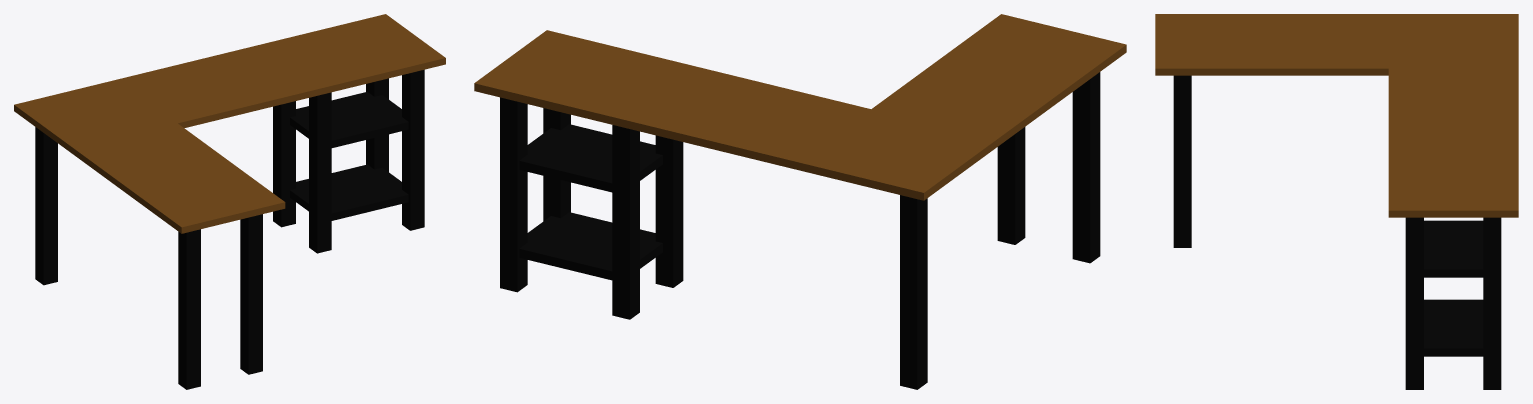
Rendered from Desk.glb.
3 views of the same model, side by side, from view 1: azimuth 30°, elevation 25°; view 2: azimuth 150°, elevation 25°; view 3: azimuth 270°, elevation 25° (orthographic). The views are drawn at different scales.
Parts seen in each view (by area): view 1: Desk Top, Desk Leg.006, Desk Leg.001, Desk Leg.002, Desk Shelf, Desk Shelf.001, Desk Leg.004, Desk Leg, Desk Leg.005, Desk Leg.003; view 2: Desk Top, Desk Leg, Desk Leg.005, Desk Leg.001, Desk Shelf, Desk Shelf.001, Desk Leg.003, Desk Leg.006, Desk Leg.002, Desk Leg.004; view 3: Desk Top, Desk Shelf, Desk Shelf.001, Desk Leg.002, Desk Leg.003, Desk Leg.004.
Part boxes in pixels (x1,y1,x2,y2): Desk Top: [14, 14, 445, 233]; Desk Leg.006: [309, 92, 331, 253]; Desk Leg.001: [178, 229, 200, 389]; Desk Leg.002: [240, 214, 262, 374]; Desk Shelf: [290, 164, 408, 220]; Desk Shelf.001: [290, 91, 408, 147]; Desk Leg.004: [402, 69, 424, 230]; Desk Leg: [35, 127, 57, 285]; Desk Leg.005: [273, 101, 295, 227]; Desk Leg.003: [366, 78, 388, 171]; Desk Top: [474, 14, 1126, 200]; Desk Leg: [900, 195, 927, 389]; Desk Leg.005: [612, 125, 639, 319]; Desk Leg.001: [1072, 72, 1100, 263]; Desk Shelf: [519, 212, 662, 280]; Desk Shelf.001: [519, 124, 662, 192]; Desk Leg.003: [500, 97, 527, 292]; Desk Leg.006: [655, 135, 683, 287]; Desk Leg.002: [997, 127, 1025, 244]; Desk Leg.004: [543, 108, 570, 221]; Desk Top: [1155, 14, 1518, 217]; Desk Shelf: [1424, 299, 1483, 356]; Desk Shelf.001: [1424, 220, 1483, 277]; Desk Leg.002: [1173, 75, 1191, 247]; Desk Leg.003: [1483, 217, 1501, 389]; Desk Leg.004: [1405, 217, 1423, 389].
Bounding box in the file's own units: 1.8 × 0.795 × 1.4.
